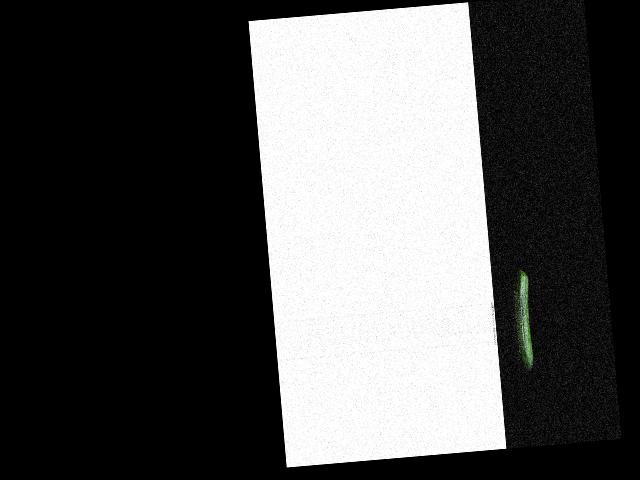cucumber: (511, 268, 535, 372)
